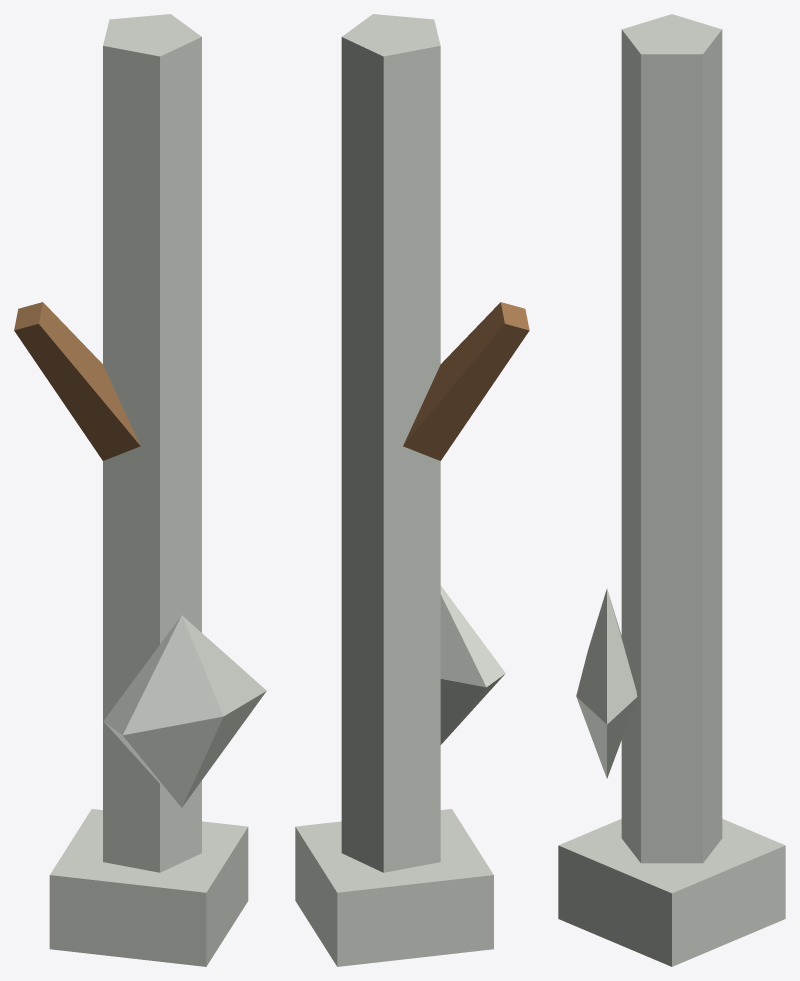
File: Water_SignPost.fbx
3 views of the same model, side by side, from view 1: azimuth 30°, elevation 25°; view 2: azimuth 150°, elevation 25°; view 3: azimuth 270°, elevation 25° (orthographic).
Visible parts, largest first — view 1: Water_SignPost; view 2: Water_SignPost; view 3: Water_SignPost.
Part boxes in pixels (x1,y1,x2,y2): Water_SignPost: (14, 14, 266, 966); Water_SignPost: (295, 14, 529, 966); Water_SignPost: (558, 14, 785, 966).
Bounding box in the file's own units: 33.04 × 120 × 28.
